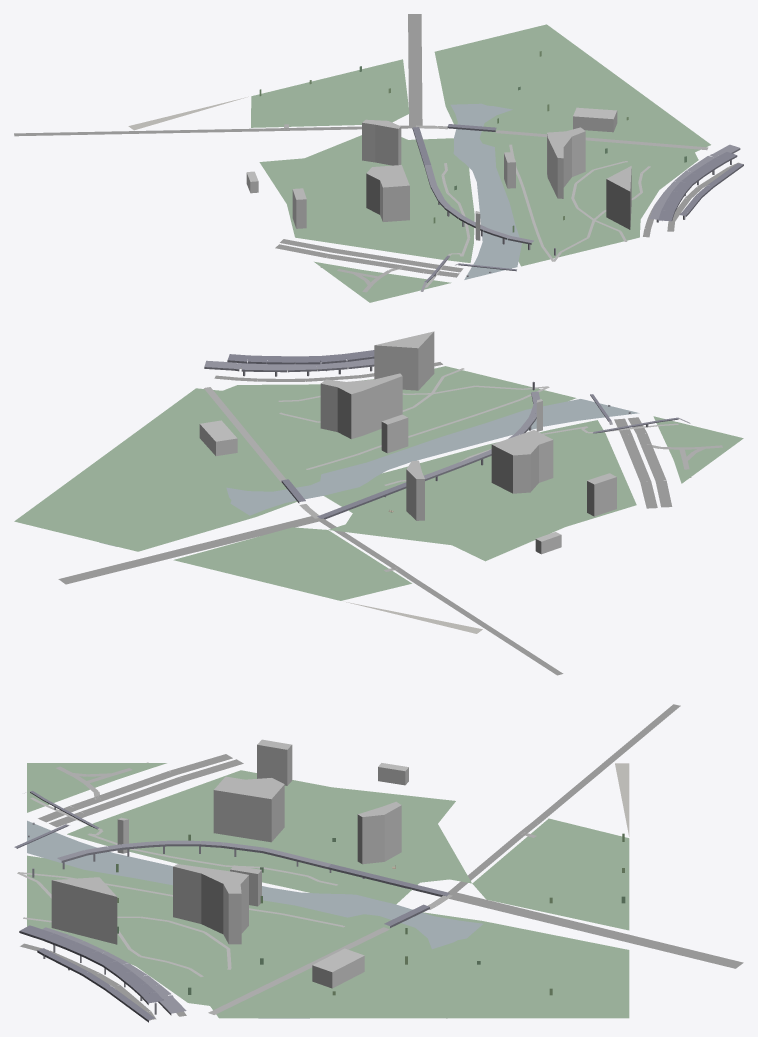
The picture shows the model from 3 angles, top to bottom: view 1: azimuth 30°, elevation 25°; view 2: azimuth 150°, elevation 25°; view 3: azimuth 270°, elevation 25°; orthographic projection. The views are drawn at different scales.
Bounding box in the file's own units: 627 × 48.44 × 606.
